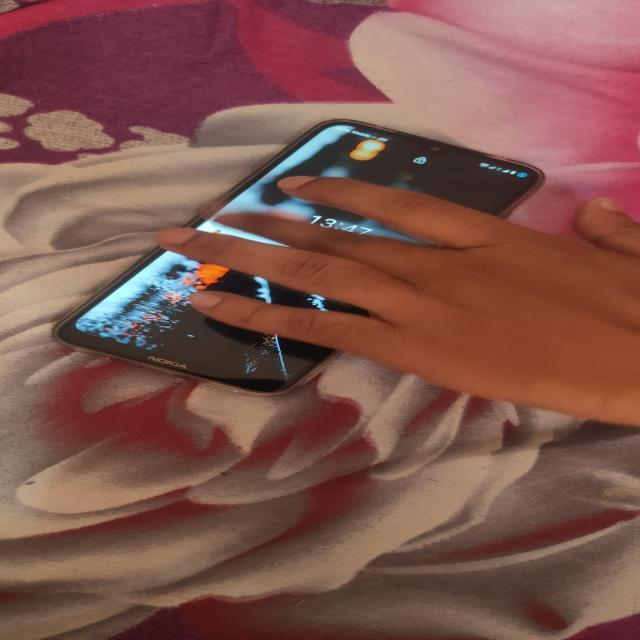Phone: (43, 115, 550, 403)
